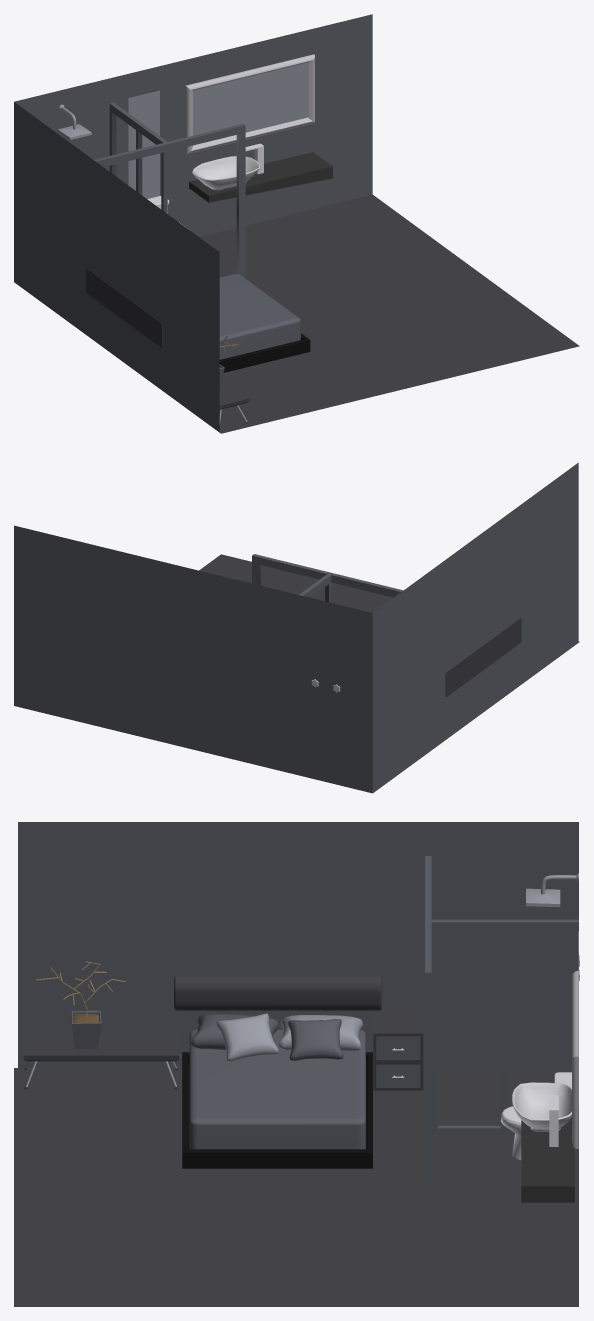
The model's file is MinimalistRoomExport.fbx.
3 renders of one model, top to bottom at view 1: azimuth 30°, elevation 25°; view 2: azimuth 150°, elevation 25°; view 3: azimuth 270°, elevation 25°, orthographic. The views are drawn at different scales.
Visible parts, largest first — view 1: Floor, Floor2, Floor1, SinkMirror:mirror, Bed:Matress, showerFrame, counter, mirror, headboard, showerFrame1, sinkBasin:loftedSurface1, Bed:BedFrame (+1 smaller); view 2: Floor1, Floor2, Floor, showerFrame, headboard, showerFrame1; view 3: Floor2, Floor, Bed:Matress, headboard, showerFrame1, Bed:BedFrame, bench:bench, NightStand:nightstand1, counter, showerFrame, sinkBasin:loftedSurface1, Bed:Square_pillow1 (+6 smaller).
Boxes of the visible parts, x1,y1,x2,y2 form: Floor: (199, 194, 579, 433); Floor2: (14, 102, 219, 432); Floor1: (14, 14, 372, 236); SinkMirror:mirror: (185, 54, 314, 153); Bed:Matress: (219, 273, 300, 359); showerFrame: (68, 123, 245, 322); counter: (189, 152, 332, 202); mirror: (128, 90, 159, 198); headboard: (86, 268, 162, 347); showerFrame1: (109, 102, 167, 213); sinkBasin:loftedSurface1: (192, 156, 260, 190); Bed:BedFrame: (219, 333, 310, 372); Floor1: (14, 525, 372, 793); Floor2: (372, 462, 578, 792); Floor: (199, 554, 579, 642); showerFrame: (252, 554, 429, 752); headboard: (445, 618, 521, 697); showerFrame1: (273, 574, 331, 765); Floor2: (18, 822, 578, 1067); Floor: (14, 1068, 578, 1306); Bed:Matress: (189, 1029, 365, 1149); headboard: (174, 976, 381, 1010); showerFrame1: (431, 919, 578, 1134); Bed:BedFrame: (182, 1052, 372, 1168); bench:bench: (23, 1034, 178, 1089); NightStand:nightstand1: (373, 1011, 423, 1090); counter: (521, 1117, 574, 1202); showerFrame: (425, 856, 431, 1184); sinkBasin:loftedSurface1: (512, 1082, 571, 1131); Bed:Square_pillow1: (216, 1013, 279, 1061).
Size of the model in its own units: 24.03 by 11.73 by 24.04.
2 materials, 1 textured.
